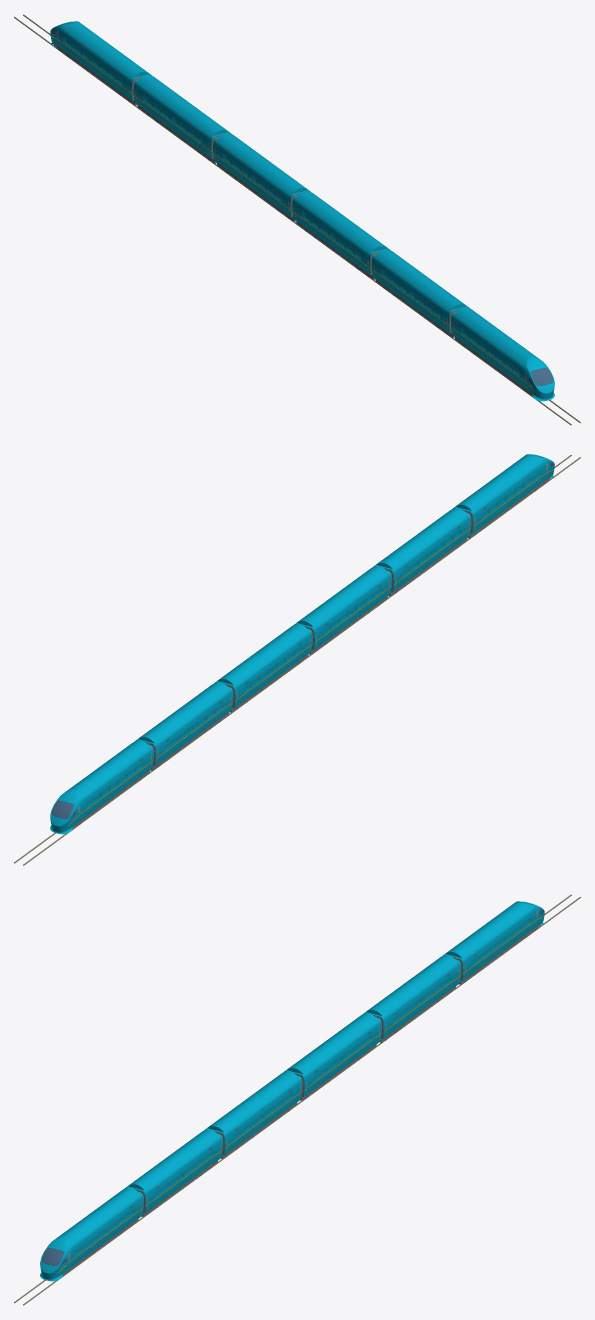
3 views of the same model, one above another, from view 1: azimuth 30°, elevation 25°; view 2: azimuth 150°, elevation 25°; view 3: azimuth 330°, elevation 25° (orthographic).
Visible parts, largest first — view 1: model11; view 2: model11; view 3: model11.
Part boxes in pixels (x1,y1,x2,y2): model11: [14, 14, 580, 425]; model11: [14, 454, 580, 865]; model11: [14, 894, 580, 1305].
Size of the model in its own units: 0.00645 by 0.00951 by 0.2815.
